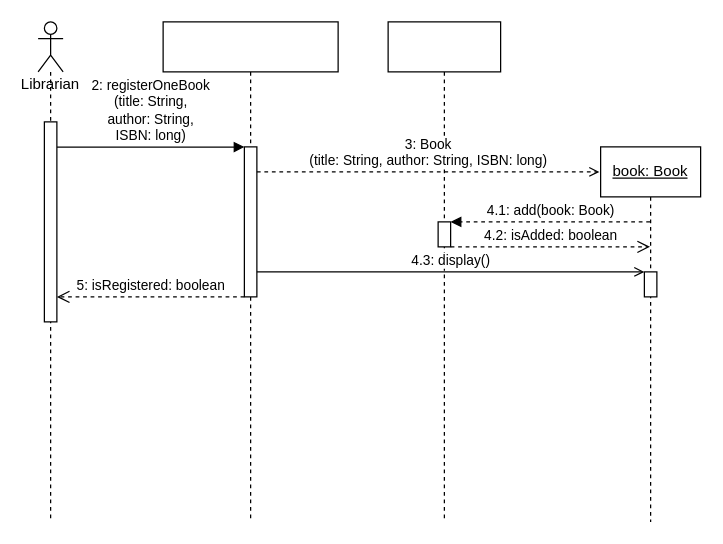
The diagram is 723 pixels wide and 544 high, and some of its shapes have lost their labels. Here are the shapes that lost their labels. From the top down, the centre of each, then its label:
(250,271): app: LibraryApplication
(444,271): bookCollection: {Book}
